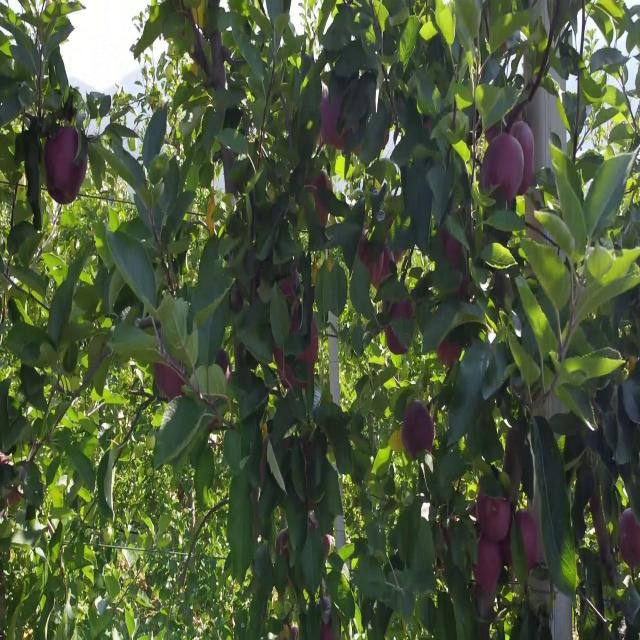apple: (44, 127, 88, 204), (484, 135, 521, 204), (508, 120, 536, 196), (400, 405, 437, 460), (476, 490, 512, 542), (472, 540, 504, 596), (384, 305, 416, 357), (360, 241, 392, 290), (516, 120, 536, 196), (364, 248, 400, 290), (320, 99, 349, 151), (308, 170, 331, 228), (620, 511, 640, 571), (520, 511, 540, 571), (156, 362, 184, 404), (284, 355, 315, 391), (48, 174, 80, 206), (440, 227, 464, 268), (436, 341, 463, 372), (280, 270, 300, 302), (52, 186, 79, 206), (220, 348, 232, 382), (8, 490, 24, 508), (324, 533, 332, 558), (324, 625, 335, 639)
